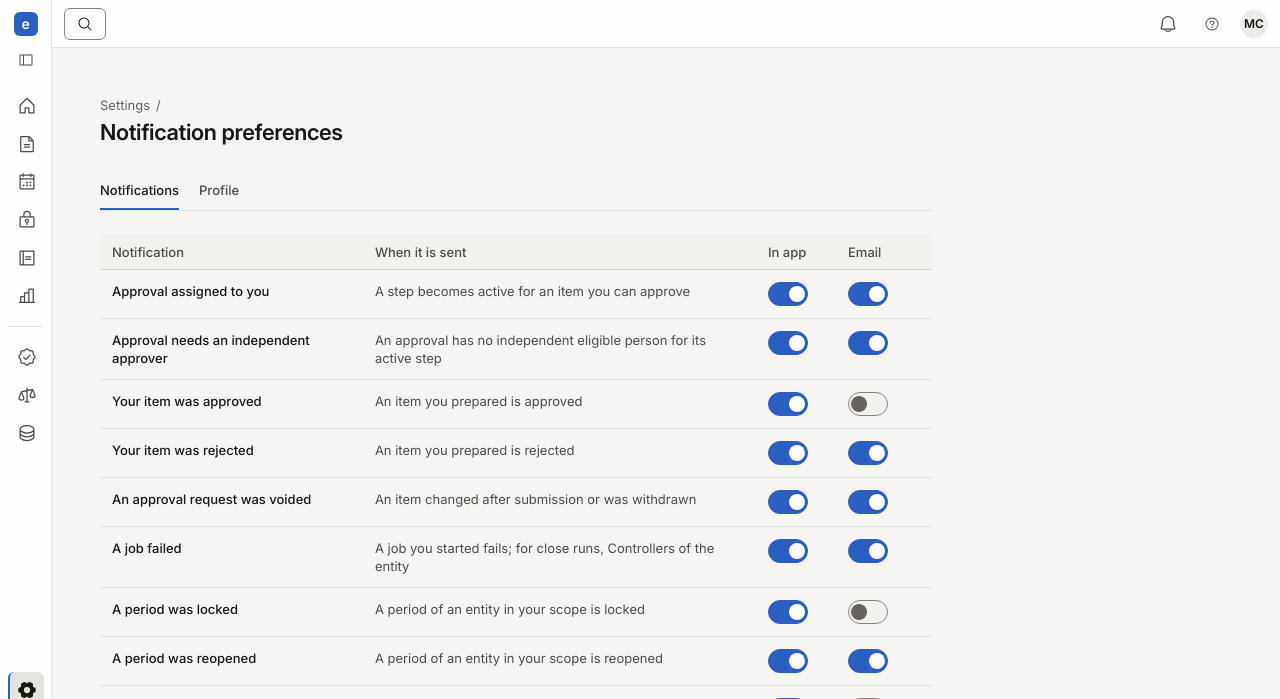
SF-15:notifications and REQ-PLT-021 › a change sends PUT /me/notification-preferences with the full list and shows Preferences saved. at most once per 5 seconds
The image size is (1280, 699).
Click the switch named "Your item was approved, email". click: (868, 404)
box: 848,392 -> 888,416
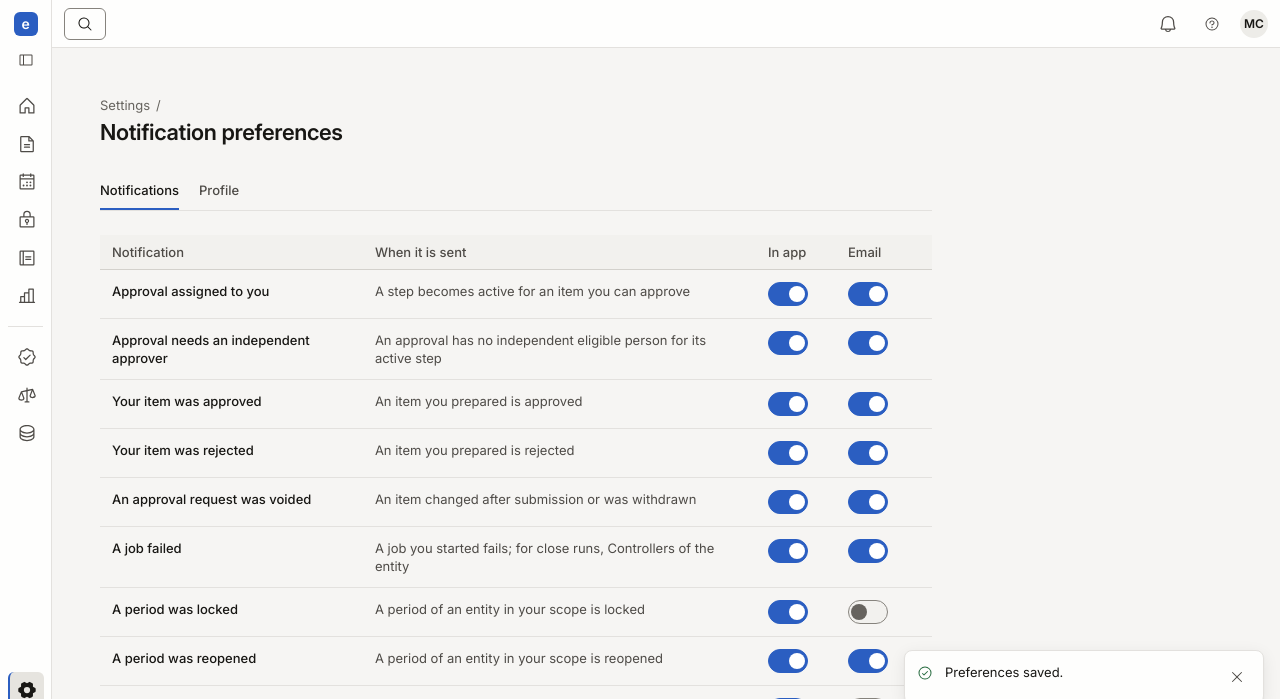
Result: the text "Preferences saved." is shown at 945,663 -> 1063,681
Click the switch named "A period was locked, email". click: (868, 612)
box: 848,600 -> 888,624
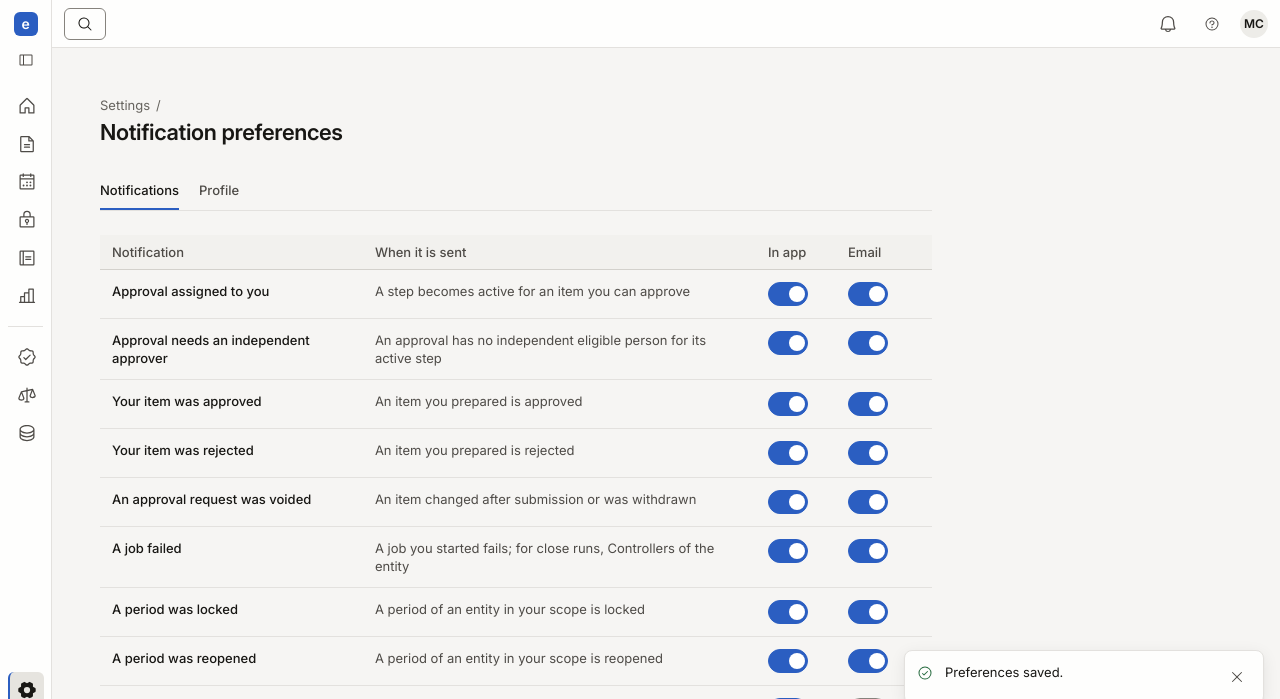
Result: the text "Preferences saved." is shown once at 945,663 -> 1063,681
Click the switch named "A job failed, in app". click: (788, 551)
box: 768,539 -> 808,563
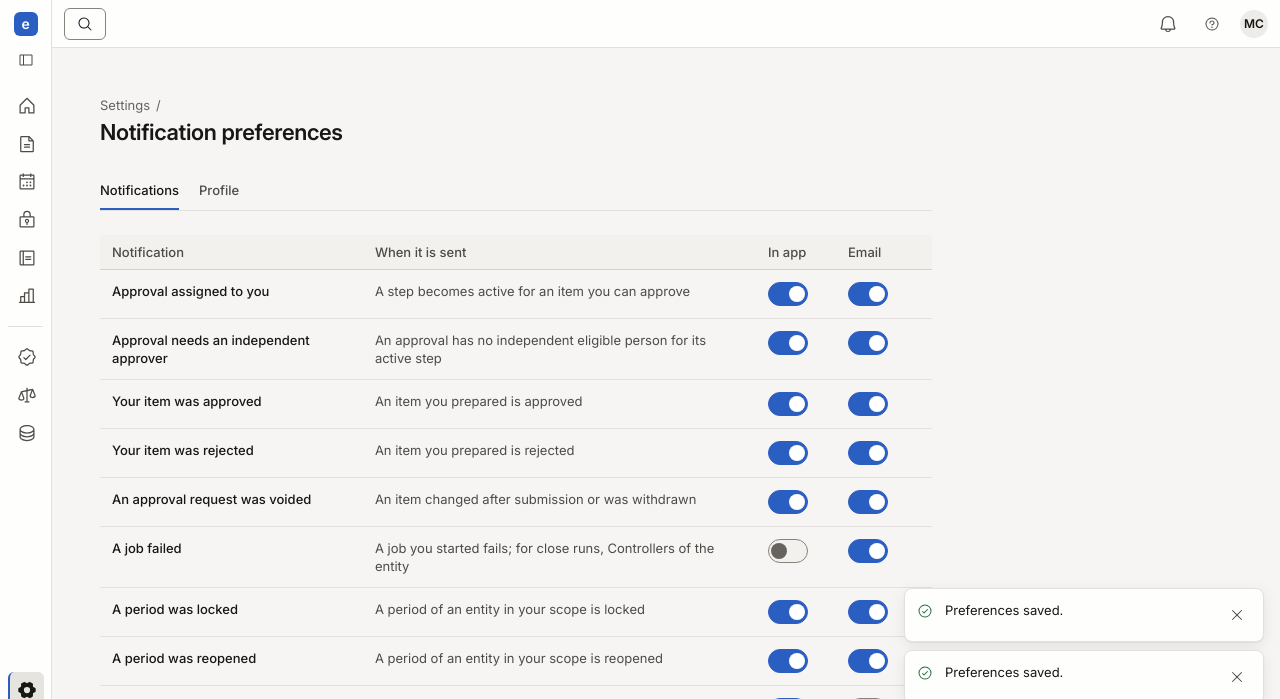
Result: the text "Preferences saved." is shown 2 times at 945,601 -> 1063,619; 945,663 -> 1063,681
